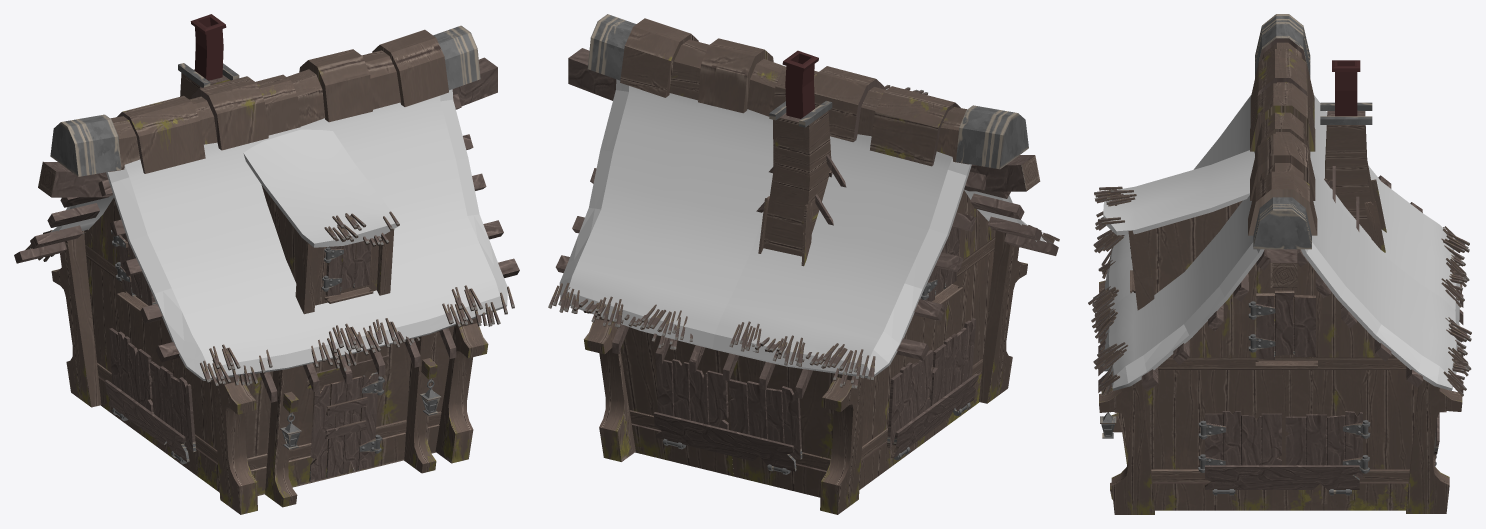
The model's file is SM_House_Small01.fbx.
3 views of the same model, side by side, from view 1: azimuth 30°, elevation 25°; view 2: azimuth 150°, elevation 25°; view 3: azimuth 270°, elevation 25° (orthographic). The views are drawn at different scales.
Parts seen in each view (by area): view 1: Box225, Object171, Object173; view 2: Box225, Object171, Object173; view 3: Box225, Object171, Object173.
Part boxes in pixels (x1=…): Box225: x1=14, y1=25, x2=519, y2=514; Object171: x1=43, y1=89, x2=507, y2=380; Object173: x1=190, y1=14, x2=226, y2=80; Box225: x1=548, y1=14, x2=1059, y2=514; Object171: x1=559, y1=79, x2=1045, y2=378; Object173: x1=782, y1=50, x2=818, y2=118; Box225: x1=1088, y1=14, x2=1471, y2=514; Object171: x1=1103, y1=95, x2=1460, y2=390; Object173: x1=1332, y1=60, x2=1360, y2=116.
Size of the model in its own units: 720 by 599 by 542.
